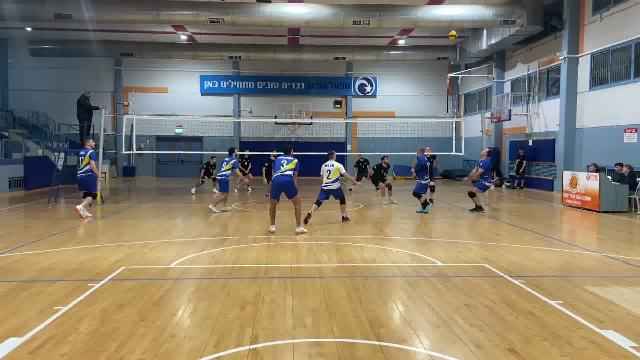ball: (445, 30, 462, 43)
